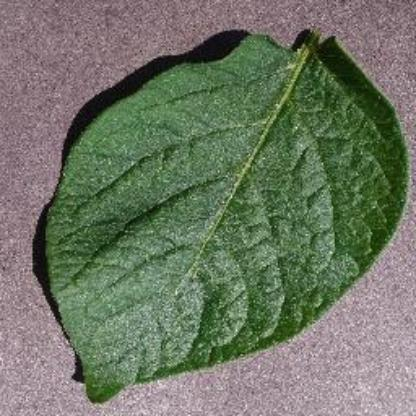Healthy-plant: (31, 37, 403, 379)
